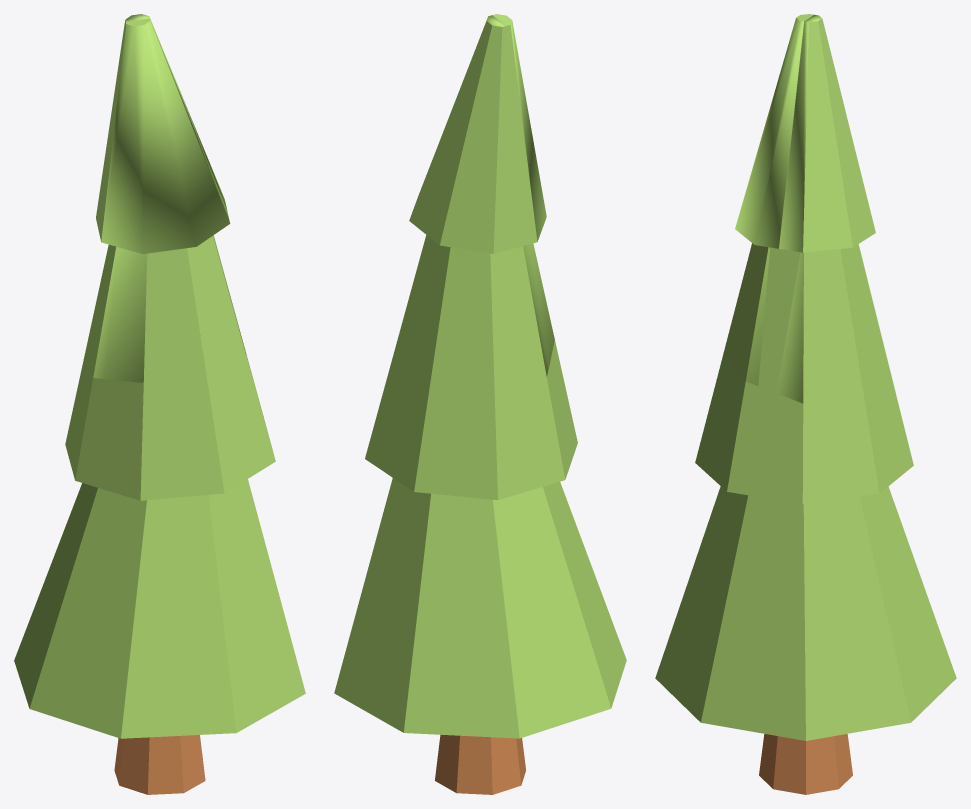
File: Tree.fbx
3 renders of one model, left to right at view 1: azimuth 30°, elevation 25°; view 2: azimuth 150°, elevation 25°; view 3: azimuth 270°, elevation 25°, orthographic.
Parts seen in each view (by area): view 1: Plane_cell, Plane_cell.001, Plane; view 2: Plane, Plane_cell, Plane_cell.001; view 3: Plane, Plane_cell, Plane_cell.001, Plane_cell.002.
Boxes of the visible parts, x1=… form: Plane_cell: x1=29, y1=354, x2=305, y2=794; Plane_cell.001: x1=93, y1=19, x2=246, y2=382; Plane: x1=14, y1=18, x2=246, y2=793; Plane: x1=334, y1=14, x2=611, y2=794; Plane_cell: x1=516, y1=340, x2=626, y2=784; Plane_cell.001: x1=510, y1=20, x2=554, y2=376; Plane: x1=723, y1=14, x2=956, y2=794; Plane_cell: x1=655, y1=354, x2=805, y2=794; Plane_cell.001: x1=735, y1=18, x2=803, y2=385; Plane_cell.002: x1=776, y1=14, x2=821, y2=403.
Bounding box in the file's own units: 164 × 456 × 166.
